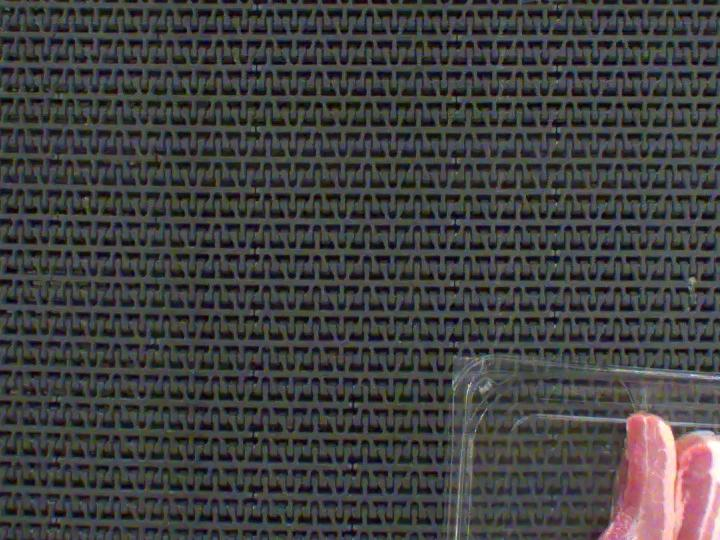packaging-error: (622, 378, 657, 414)
